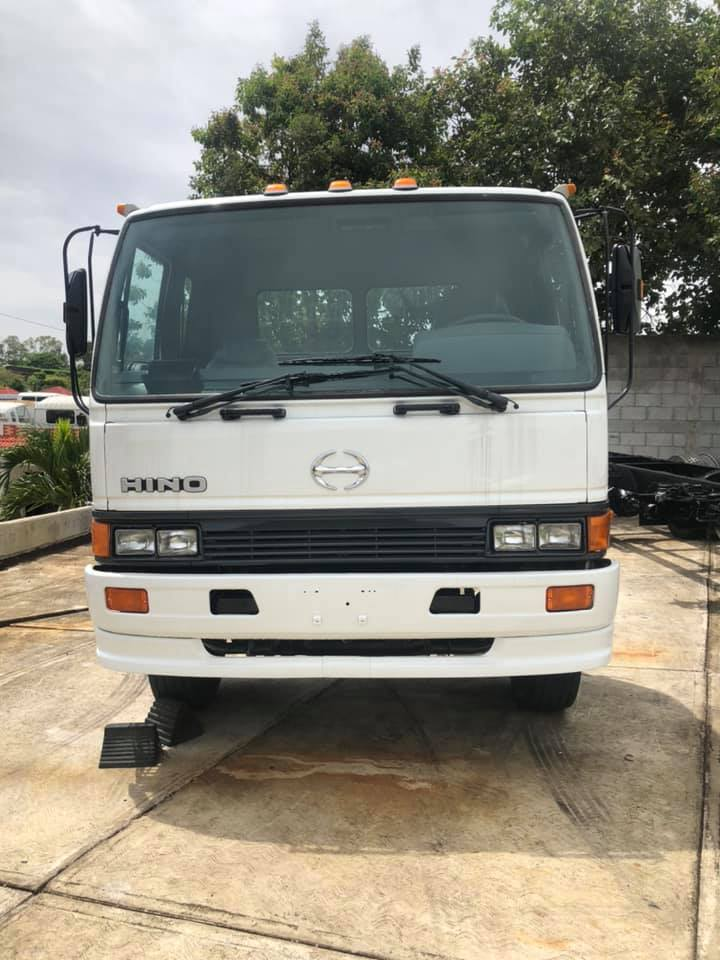camion: (55, 171, 655, 746)
